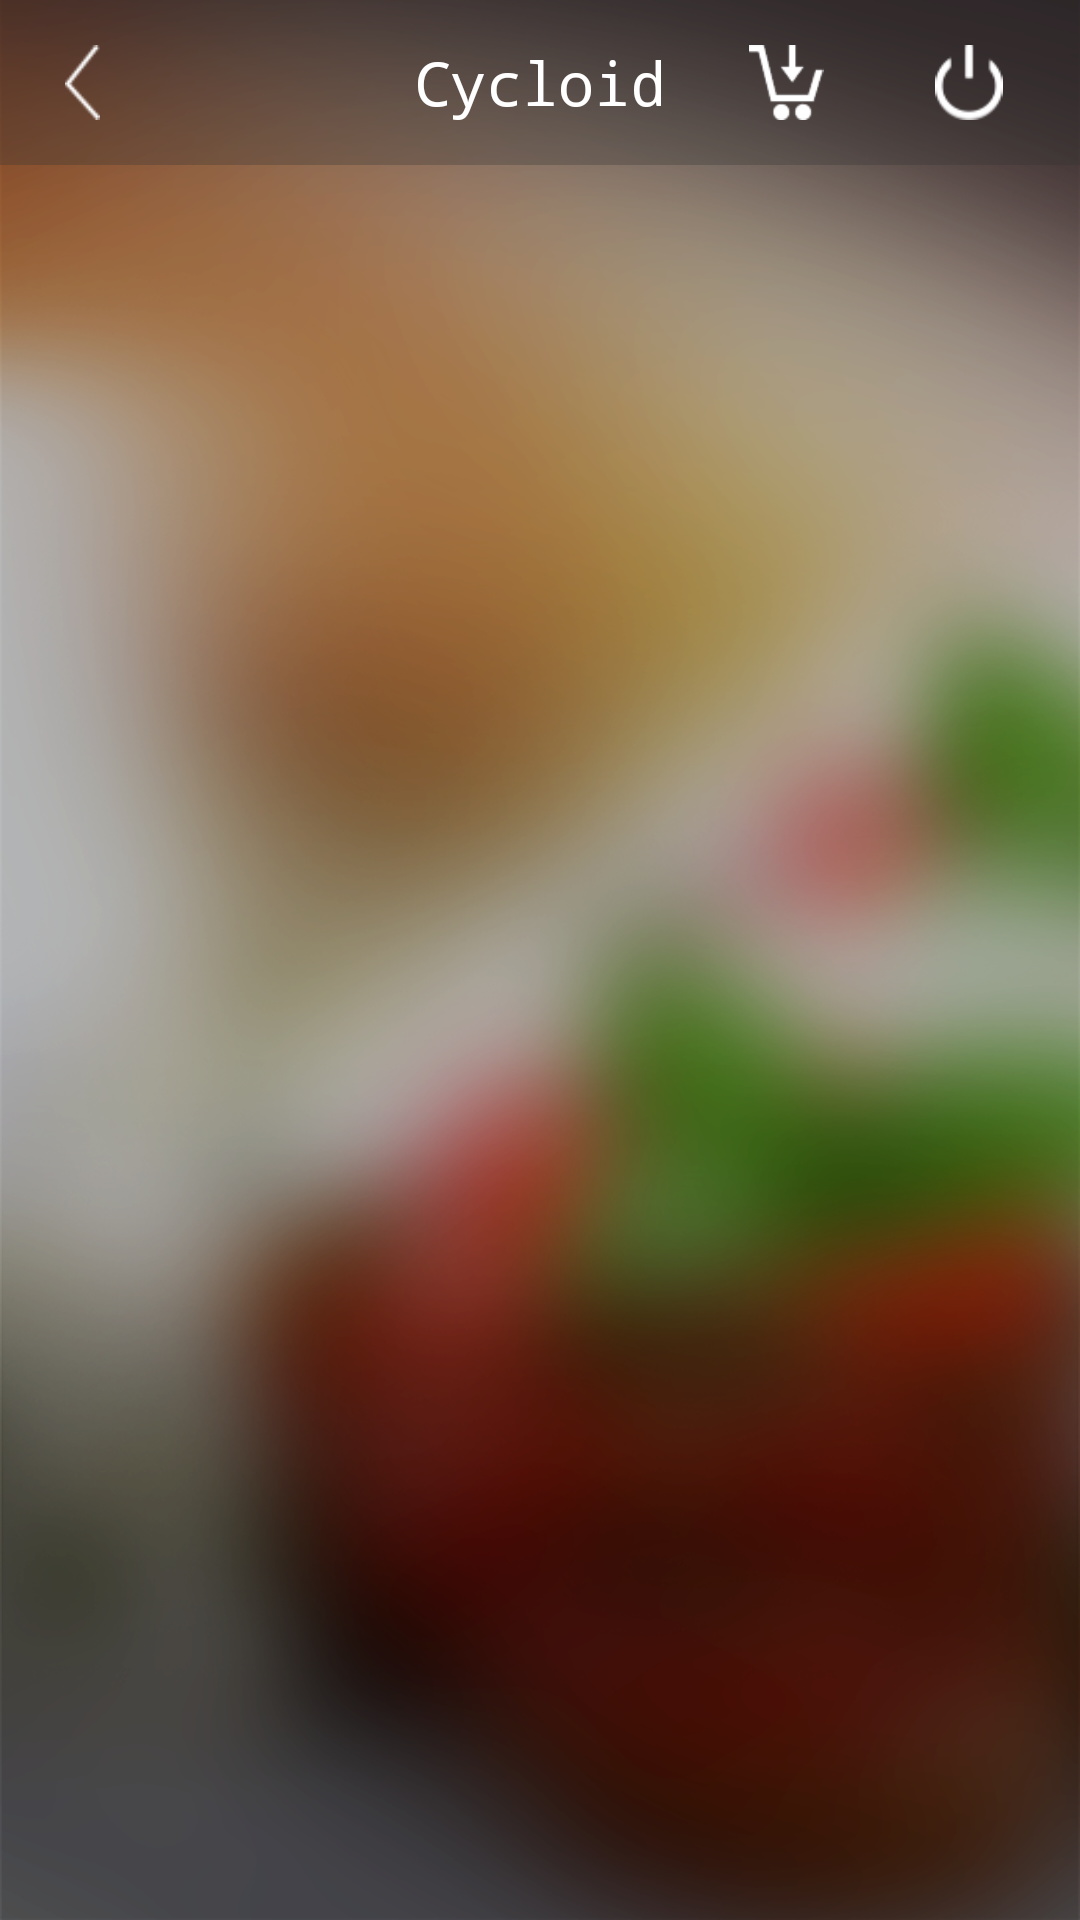

Point at icon controls on the screen. Image size 1080 × 1920, points as (x,y).
back: (82,82)
buy: (786,82)
